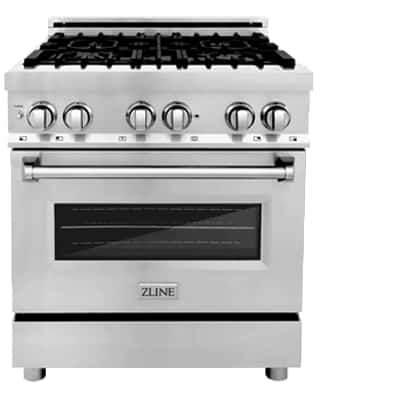stove: (2, 17, 310, 367)
